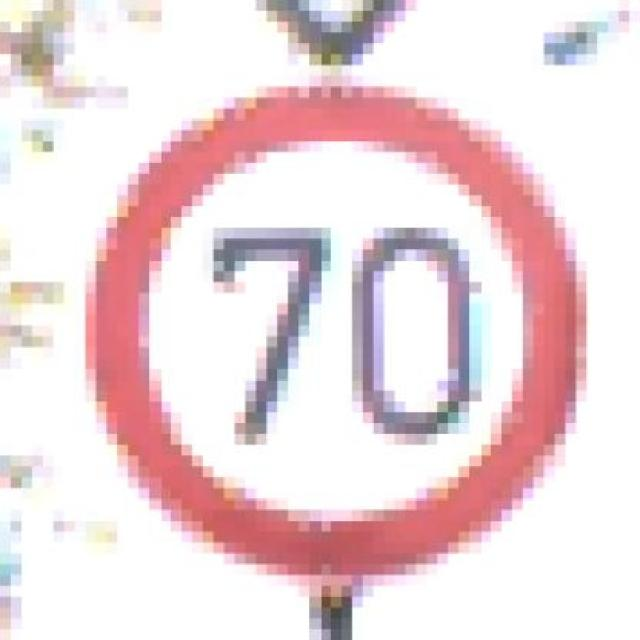forb_speed_over_70: (90, 84, 582, 578)
